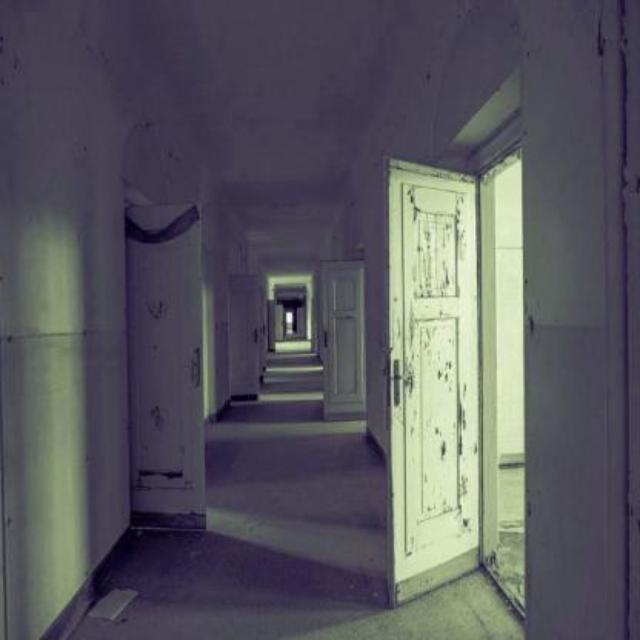door: (386, 157, 481, 604), (116, 200, 207, 536), (318, 264, 365, 424), (221, 269, 263, 408)
